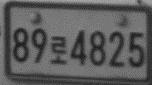2: (108, 30, 126, 68)
4: (69, 29, 87, 64)
5: (127, 30, 145, 68)
8: (89, 29, 106, 65), (12, 27, 29, 62)
9: (31, 27, 48, 64)
로: (49, 34, 68, 66)
